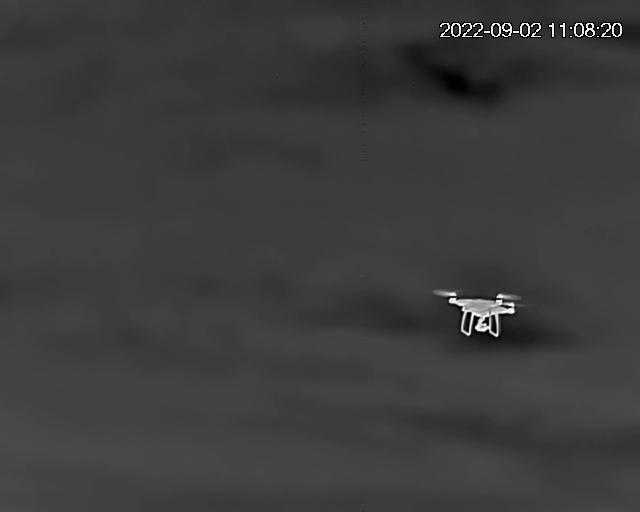DJI-Phantom: (436, 290, 526, 339)
